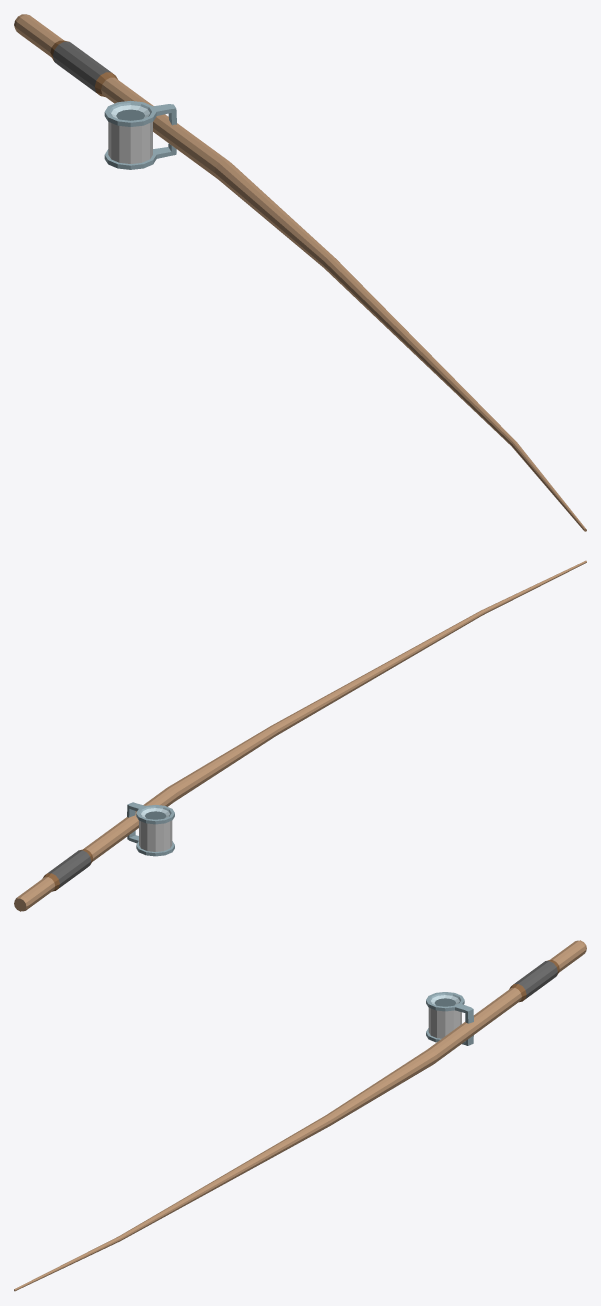
File: Fishing_rod1.glb
The picture shows the model from 3 angles, top to bottom: view 1: azimuth 30°, elevation 25°; view 2: azimuth 150°, elevation 25°; view 3: azimuth 330°, elevation 25°; orthographic projection. The views are drawn at different scales.
Visible parts, largest first — view 1: Fishing_Rod; view 2: Fishing_Rod; view 3: Fishing_Rod.
Boxes of the visible parts, left/top/right/bottom form: Fishing_Rod: left=14, top=14, right=586, bottom=531; Fishing_Rod: left=14, top=560, right=586, bottom=911; Fishing_Rod: left=14, top=940, right=586, bottom=1291.
Bounding box in the file's own units: 0.2441 × 0.1 × 2.54.
Materials: 1 (1 with a texture image).
